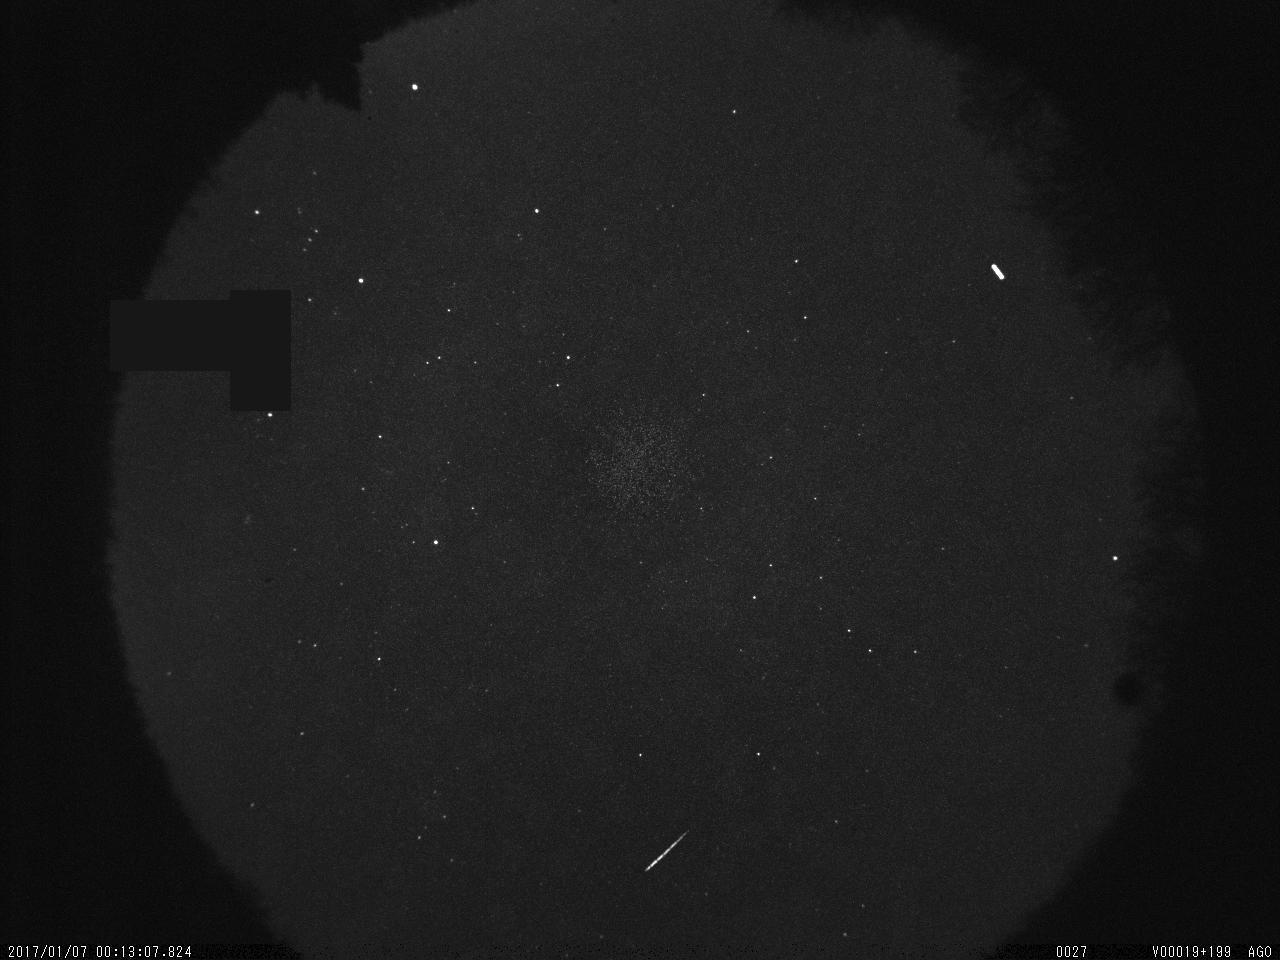meteor: (637, 819, 698, 883)
satelite: (984, 259, 1009, 288)
